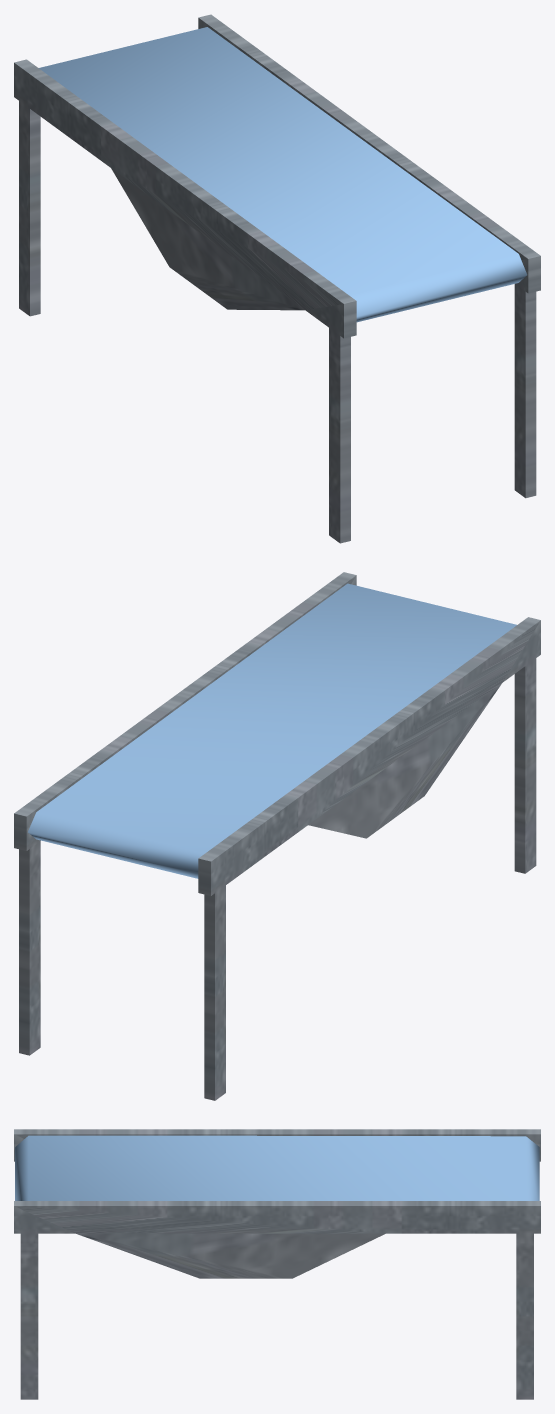
The model's file is con2.dae.
The picture shows the model from 3 angles, top to bottom: view 1: azimuth 30°, elevation 25°; view 2: azimuth 150°, elevation 25°; view 3: azimuth 270°, elevation 25°; orthographic projection. The views are drawn at different scales.
Parts seen in each view (by area): view 1: LOD_2; view 2: LOD_2; view 3: LOD_2.
Part boxes in pixels (x1,y1,x2,y2): LOD_2: (14, 14, 540, 543); LOD_2: (14, 572, 540, 1100); LOD_2: (14, 1129, 540, 1399).
Size of the model in its own units: 3.81 by 11.04 by 4.48.
